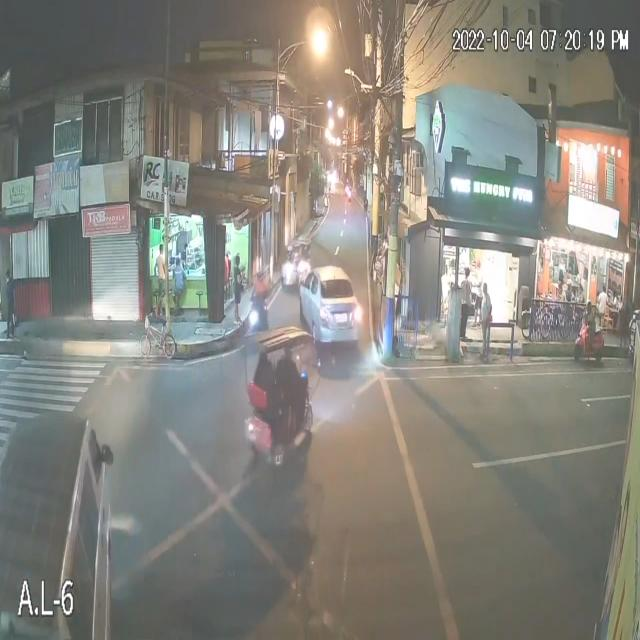Full-Faced: (253, 267, 267, 287)
